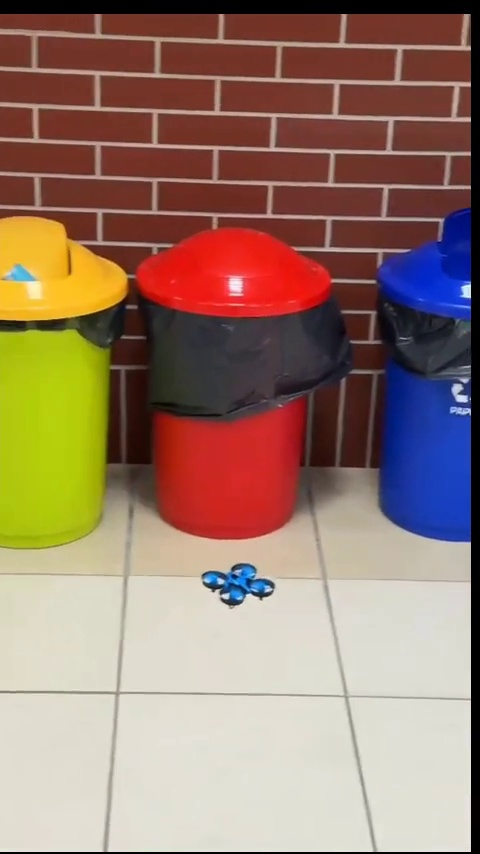drone: (202, 564, 272, 609)
